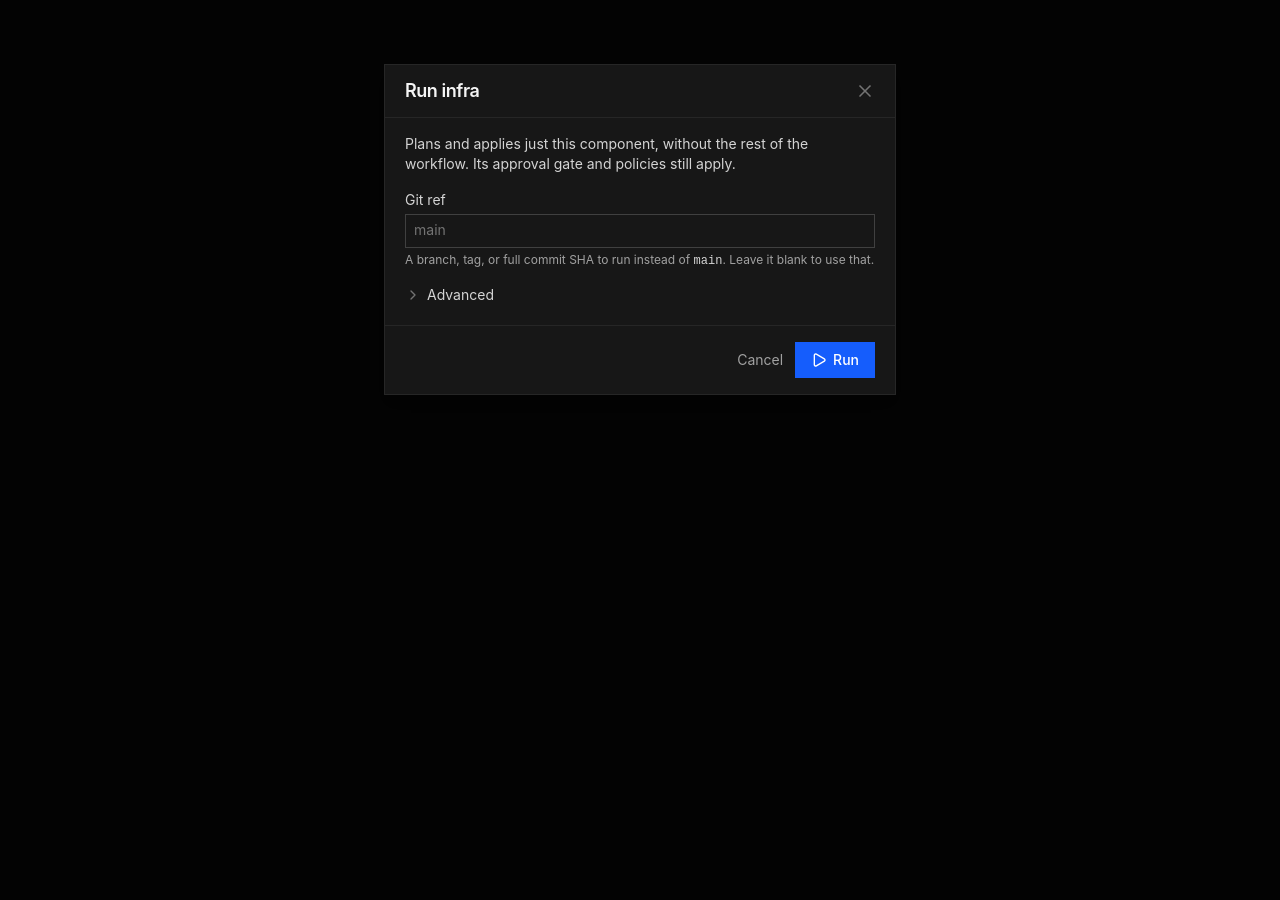
Test: ComponentRunDialog › does not start a run when saving pending edits fails
Click the button "Run" at (835,360), box x1=795 y1=342 x2=875 y2=378
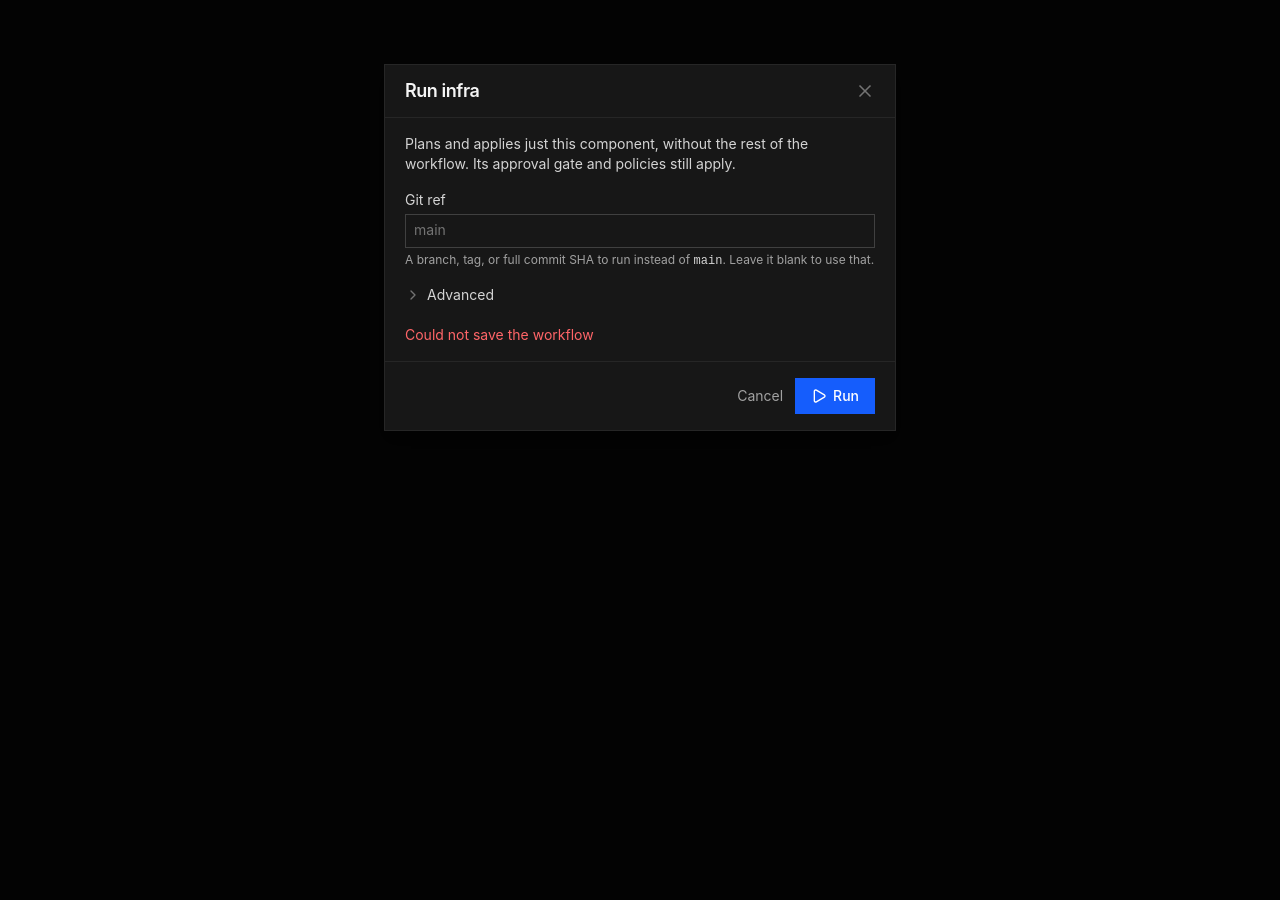
Expected: the text "Could not save the workflow" is shown, x1=405 y1=326 x2=594 y2=343
